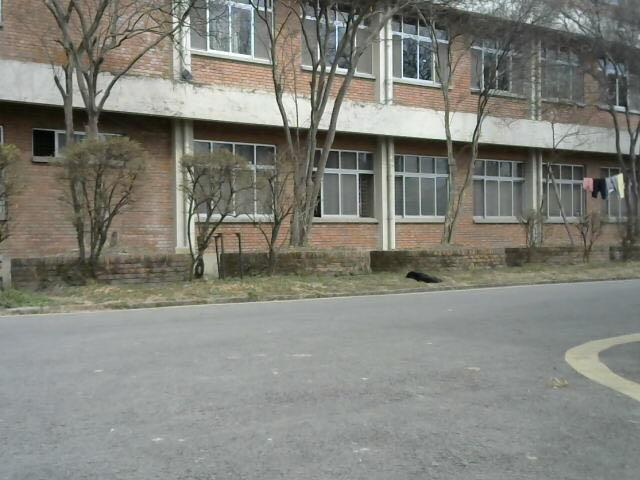Building: (2, 2, 640, 248)
Road: (0, 314, 640, 480)
Tree: (409, 4, 528, 256), (265, 0, 371, 248), (61, 138, 144, 288), (184, 144, 265, 288)
